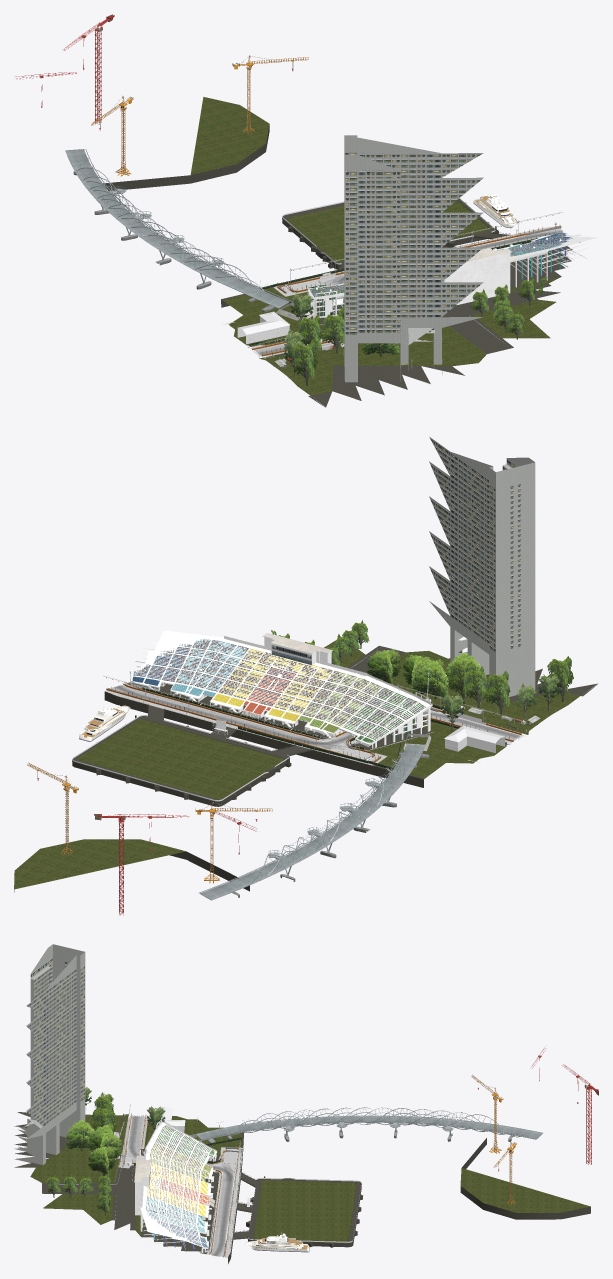
The picture shows the model from 3 angles, top to bottom: view 1: azimuth 30°, elevation 25°; view 2: azimuth 150°, elevation 25°; view 3: azimuth 270°, elevation 25°; orthographic projection. The views are drawn at different scales.
Visible parts, largest first — view 1: m42_t10, m97_t10, m96_t10, m80_t10, m14_t10, m86_t10, m0_t10, m4_t10, m3_t10, m16_t10, m19_t10, m11_t10 (+3 smaller); view 2: m42_t10, m97_t10, m86_t10, m96_t10, m14_t10, m11_t10, m13_t10, m80_t10, m0_t10, m15_t10, m73_t10, m16_t10 (+5 smaller); view 3: m97_t10, m42_t10, m86_t10, m96_t10, m80_t10, m14_t10, m11_t10, m13_t10, m15_t10, m16_t10, m0_t10, m19_t10 (+4 smaller).
Part boxes in pixels (bbox=[...]): m42_t10: bbox=[344, 135, 483, 382]; m97_t10: bbox=[190, 97, 560, 395]; m96_t10: bbox=[103, 124, 572, 407]; m80_t10: bbox=[65, 149, 310, 314]; m14_t10: bbox=[284, 277, 548, 386]; m86_t10: bbox=[308, 232, 598, 318]; m0_t10: bbox=[237, 198, 546, 358]; m4_t10: bbox=[91, 55, 308, 176]; m3_t10: bbox=[15, 14, 114, 124]; m16_t10: bbox=[250, 226, 561, 349]; m19_t10: bbox=[473, 194, 517, 228]; m11_t10: bbox=[309, 233, 572, 316]; m42_t10: bbox=[429, 437, 535, 700]; m97_t10: bbox=[14, 637, 579, 889]; m86_t10: bbox=[130, 630, 432, 748]; m96_t10: bbox=[14, 645, 597, 892]; m14_t10: bbox=[271, 620, 573, 732]; m11_t10: bbox=[132, 639, 425, 743]; m13_t10: bbox=[133, 640, 425, 740]; m80_t10: bbox=[199, 733, 429, 900]; m0_t10: bbox=[72, 668, 526, 801]; m15_t10: bbox=[111, 685, 523, 747]; m73_t10: bbox=[106, 683, 521, 763]; m16_t10: bbox=[105, 683, 522, 765]; m97_t10: bbox=[30, 1114, 590, 1241]; m42_t10: bbox=[14, 944, 85, 1164]; m86_t10: bbox=[134, 1119, 217, 1252]; m96_t10: bbox=[14, 1112, 590, 1263]; m80_t10: bbox=[189, 1107, 542, 1144]; m14_t10: bbox=[46, 1087, 165, 1215]; m11_t10: bbox=[146, 1125, 215, 1247]; m13_t10: bbox=[146, 1125, 210, 1246]; m15_t10: bbox=[114, 1115, 234, 1256]; m16_t10: bbox=[121, 1116, 241, 1257]; m0_t10: bbox=[115, 1106, 361, 1251]; m19_t10: bbox=[245, 1232, 309, 1252].
Size of the model in its own units: 331 by 203 by 555.
28 materials, 27 textured.
